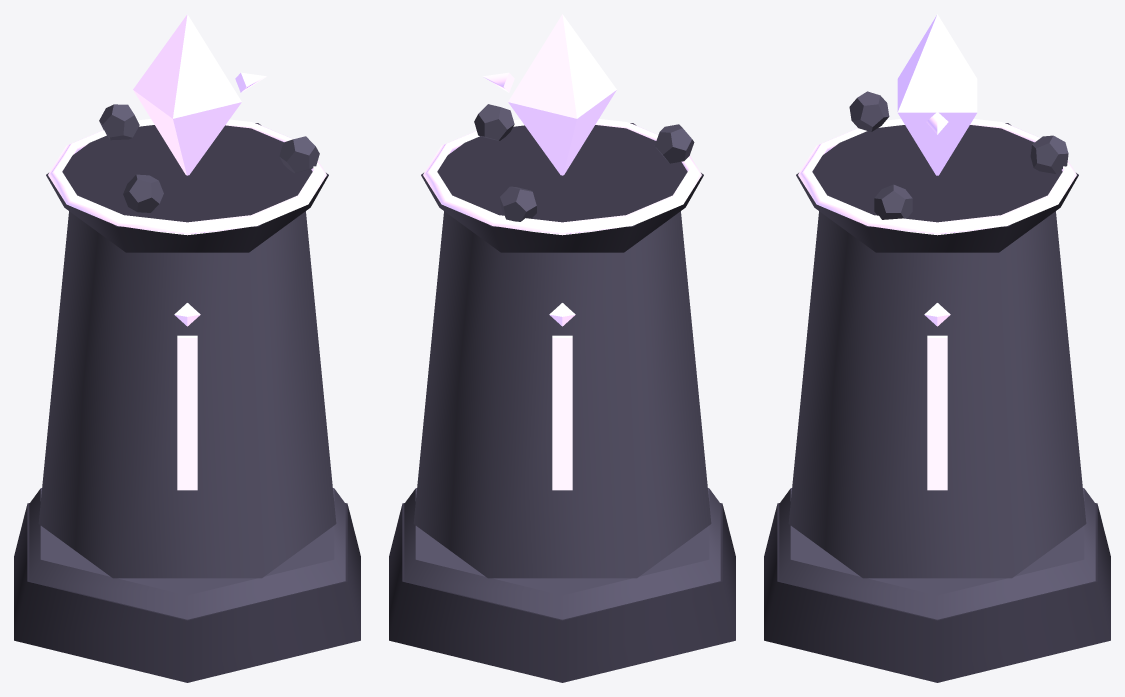
Rendered from tower_element.glb.
3 renders of one model, left to right at view 1: azimuth 30°, elevation 25°; view 2: azimuth 150°, elevation 25°; view 3: azimuth 270°, elevation 25°, orthographic.
Parts seen in each view (by area): view 1: pillar, base, pillar_cap, base_top, crystal, cap_ring, aura, rune_2; view 2: pillar, base, pillar_cap, base_top, crystal, cap_ring, rune_1, aura; view 3: pillar, base, pillar_cap, base_top, crystal, cap_ring, aura, rune_0.
Boxes of the visible parts, left/top/right/bottom form: pillar: left=38, top=211, right=336, bottom=578; base: left=14, top=503, right=360, bottom=682; pillar_cap: left=46, top=123, right=328, bottom=252; base_top: left=29, top=488, right=345, bottom=619; crystal: left=133, top=14, right=241, bottom=175; cap_ring: left=48, top=119, right=326, bottom=235; aura: left=99, top=104, right=319, bottom=212; rune_2: left=177, top=335, right=197, bottom=490; pillar: left=413, top=211, right=711, bottom=578; base: left=389, top=503, right=735, bottom=682; pillar_cap: left=421, top=123, right=703, bottom=252; base_top: left=404, top=488, right=720, bottom=619; crystal: left=508, top=14, right=616, bottom=175; cap_ring: left=423, top=119, right=701, bottom=235; rune_1: left=552, top=335, right=572, bottom=490; aura: left=474, top=104, right=694, bottom=221; pillar: left=788, top=211, right=1086, bottom=578; base: left=764, top=503, right=1110, bottom=682; pillar_cap: left=796, top=123, right=1078, bottom=252; base_top: left=779, top=488, right=1095, bottom=619; crystal: left=897, top=14, right=977, bottom=175; cap_ring: left=798, top=119, right=1076, bottom=235; aura: left=849, top=91, right=1068, bottom=219; rune_0: left=927, top=335, right=947, bottom=490.
Bounding box in the file's own units: 0.39 × 0.628 × 0.3377.
